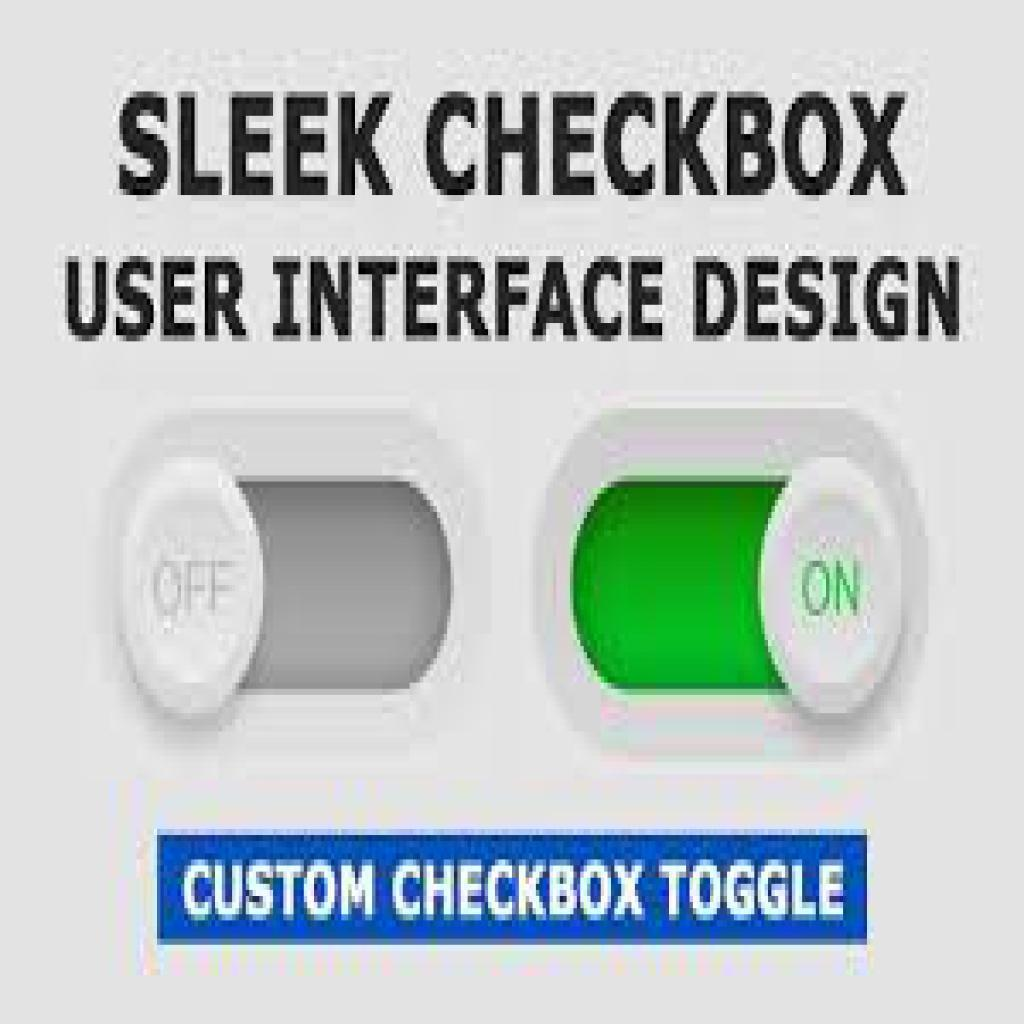switch: (534, 393, 936, 745), (117, 403, 470, 749)
